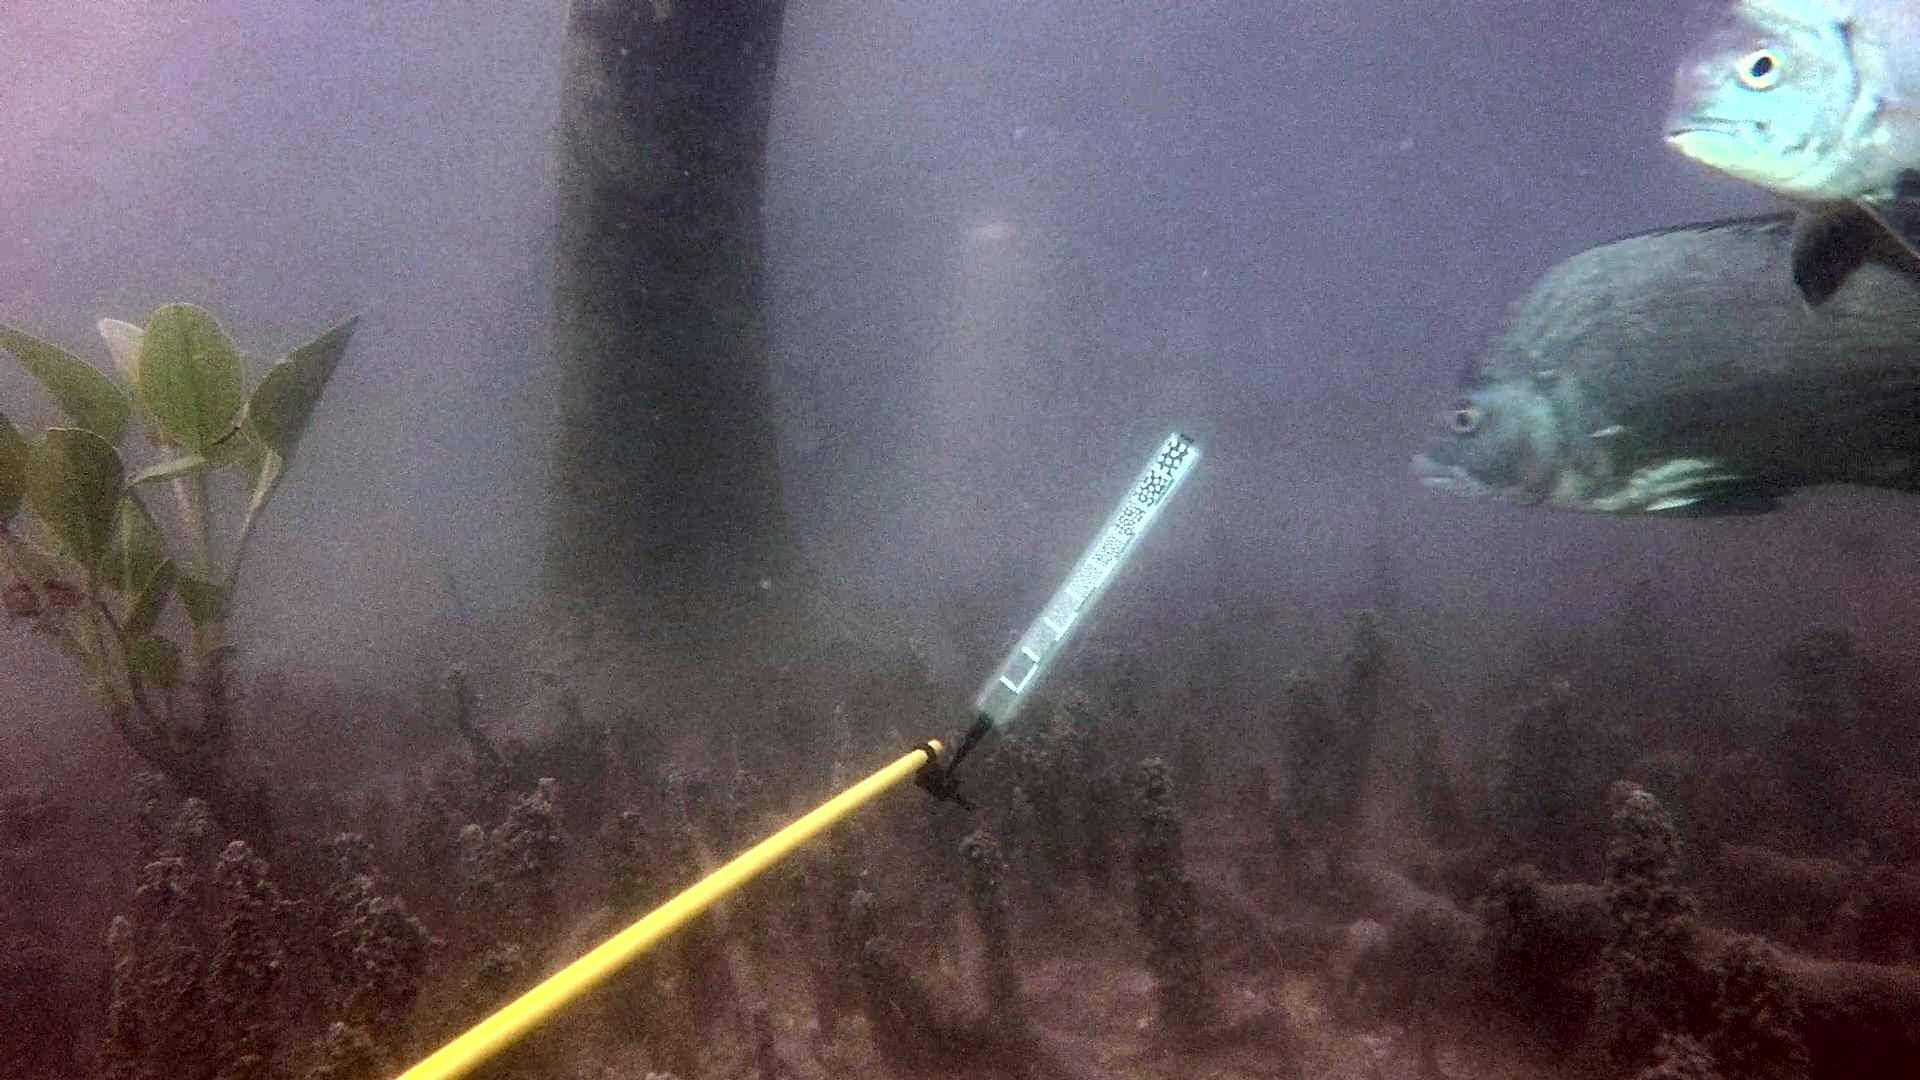acanthopagrus palmaris: (1408, 208, 1920, 546), (1655, 0, 1920, 319)
